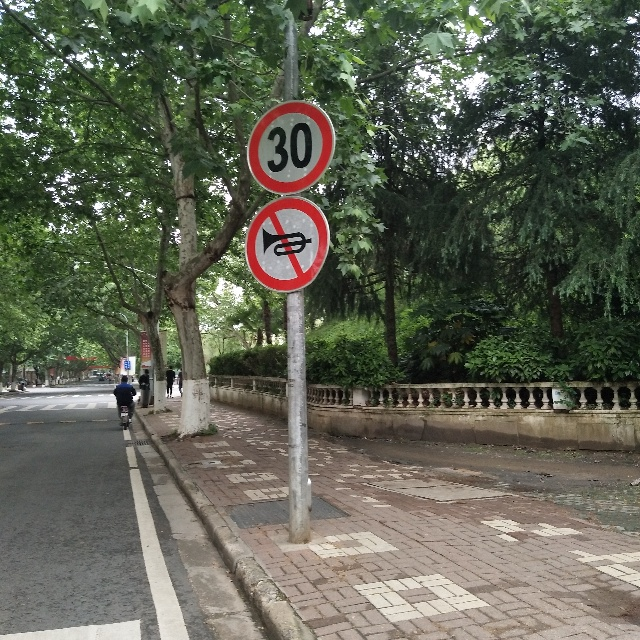nohonk: (250, 205, 320, 280)
